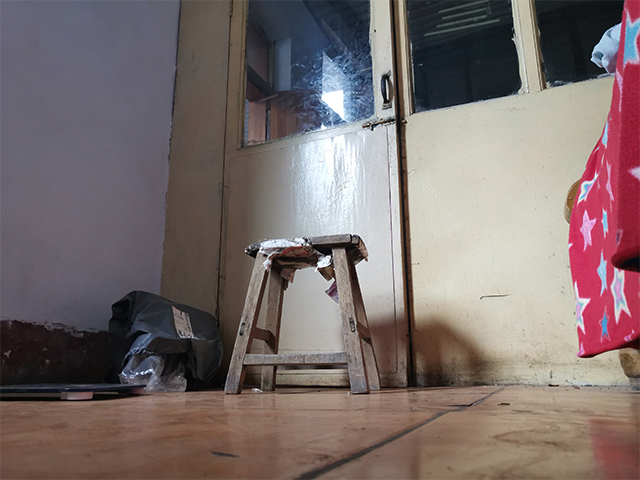stool: (222, 232, 384, 396)
